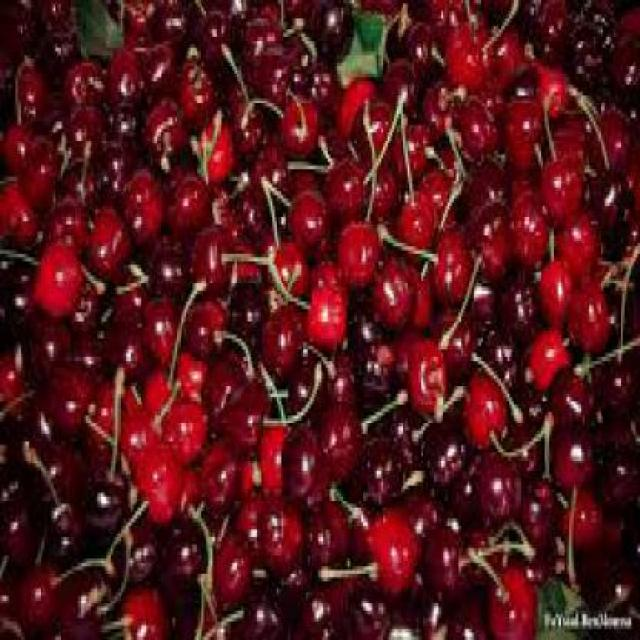BIODEGRADABLE: (0, 0, 638, 637), (580, 541, 638, 636), (160, 518, 206, 614), (100, 287, 146, 382), (282, 418, 328, 508), (366, 508, 414, 592), (80, 198, 128, 280), (470, 445, 518, 526), (541, 552, 587, 636), (217, 372, 268, 446), (122, 169, 168, 251), (33, 372, 98, 430), (29, 242, 82, 313), (257, 493, 301, 578), (58, 566, 110, 637), (486, 566, 536, 637), (467, 198, 511, 276), (91, 452, 129, 542), (525, 323, 573, 394), (314, 404, 360, 478), (308, 257, 346, 346), (504, 85, 544, 169), (0, 405, 40, 489), (250, 136, 293, 213), (201, 346, 244, 423), (304, 496, 350, 567), (335, 213, 379, 287), (521, 448, 556, 541), (144, 232, 190, 302), (389, 10, 434, 81), (261, 304, 305, 376), (451, 91, 507, 147), (182, 290, 226, 361), (18, 566, 62, 637), (565, 3, 603, 85), (388, 188, 435, 254), (463, 372, 503, 448), (193, 0, 239, 66), (418, 526, 464, 592), (6, 58, 56, 118), (160, 393, 202, 464), (365, 254, 410, 320), (166, 170, 211, 236), (33, 438, 87, 493), (144, 92, 182, 170), (0, 493, 40, 567), (212, 525, 248, 607), (427, 217, 465, 294), (137, 449, 175, 526), (274, 103, 326, 159), (22, 316, 68, 379), (402, 342, 441, 416), (50, 99, 101, 155), (239, 3, 279, 74), (263, 232, 306, 298), (511, 188, 549, 262), (73, 0, 124, 55), (350, 338, 392, 404), (120, 518, 162, 584), (304, 577, 350, 637), (445, 26, 489, 88), (256, 40, 299, 103), (458, 152, 512, 202), (420, 147, 458, 218), (493, 272, 536, 334), (186, 220, 223, 291), (50, 489, 84, 566), (4, 258, 38, 334), (560, 489, 605, 545), (542, 151, 582, 214), (392, 408, 428, 478), (591, 100, 629, 166), (122, 585, 170, 637), (0, 172, 35, 243), (144, 297, 179, 368), (572, 276, 612, 338), (549, 365, 589, 426), (558, 214, 600, 272), (598, 448, 638, 508), (2, 338, 38, 404), (175, 54, 212, 118), (434, 302, 472, 364), (290, 181, 324, 250), (131, 36, 175, 89), (465, 291, 503, 352), (40, 195, 82, 250), (235, 170, 270, 236), (92, 132, 131, 191), (15, 143, 56, 199), (226, 232, 263, 294), (445, 589, 493, 636), (363, 154, 397, 220), (598, 353, 636, 412), (226, 286, 263, 346), (337, 73, 372, 136), (536, 253, 567, 324), (246, 585, 288, 637), (555, 430, 594, 485), (389, 114, 423, 177), (362, 437, 403, 489), (381, 58, 419, 114), (190, 121, 228, 177), (347, 291, 385, 346), (547, 111, 591, 158), (607, 26, 638, 92), (487, 26, 521, 86), (112, 397, 146, 457), (202, 452, 236, 512), (407, 264, 435, 336), (109, 47, 142, 107), (306, 62, 339, 122), (345, 589, 387, 636), (63, 65, 109, 107), (317, 0, 349, 60), (316, 345, 350, 401), (212, 180, 242, 243), (60, 159, 100, 206), (351, 0, 385, 55), (70, 328, 102, 386), (355, 99, 390, 152), (535, 0, 563, 66), (507, 404, 550, 445), (494, 338, 523, 398), (536, 66, 572, 114), (151, 0, 192, 42), (420, 78, 448, 139), (331, 151, 358, 214), (0, 0, 32, 52), (277, 375, 317, 416), (589, 169, 625, 214), (106, 92, 142, 136), (447, 460, 471, 526), (616, 132, 638, 203), (424, 430, 458, 475), (44, 18, 73, 70), (237, 114, 266, 166), (405, 485, 441, 526), (142, 371, 170, 423), (219, 69, 253, 111), (109, 1, 153, 33), (348, 490, 369, 556), (0, 114, 31, 158), (281, 0, 317, 37), (259, 434, 284, 486), (580, 0, 614, 37), (390, 595, 418, 637), (418, 0, 458, 29), (465, 0, 501, 29), (235, 452, 250, 516), (175, 357, 199, 394), (506, 0, 536, 29), (31, 0, 58, 29), (618, 0, 638, 26), (624, 213, 638, 247)
